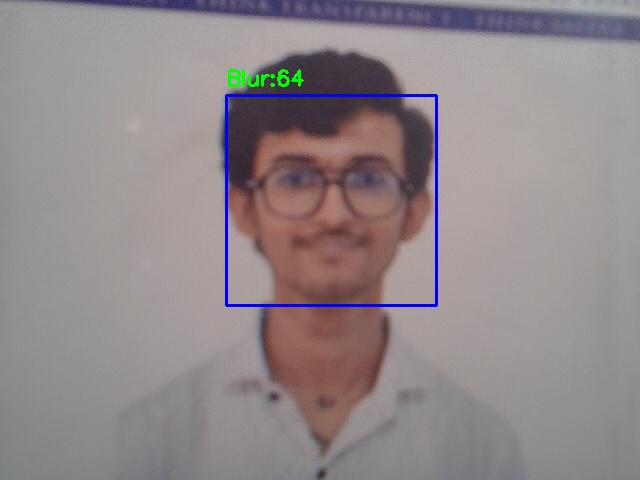fake: (226, 95, 436, 305)
